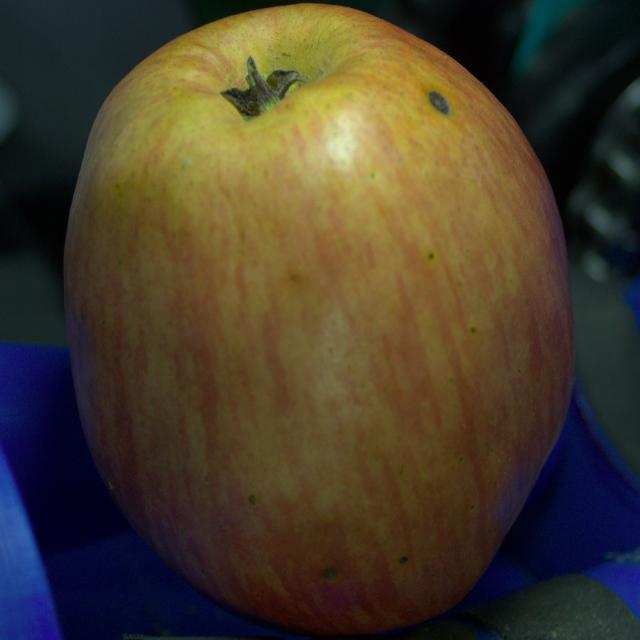apple: (64, 4, 574, 634)
pest: (429, 91, 449, 114), (321, 568, 337, 579), (399, 557, 408, 564), (248, 495, 255, 504)
